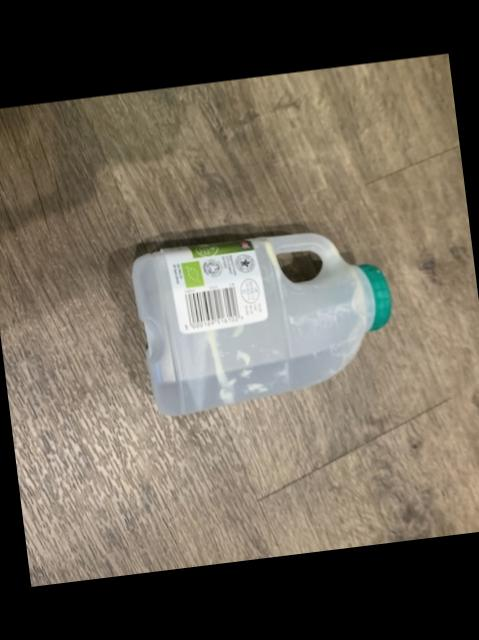plastic: (132, 232, 389, 413)
